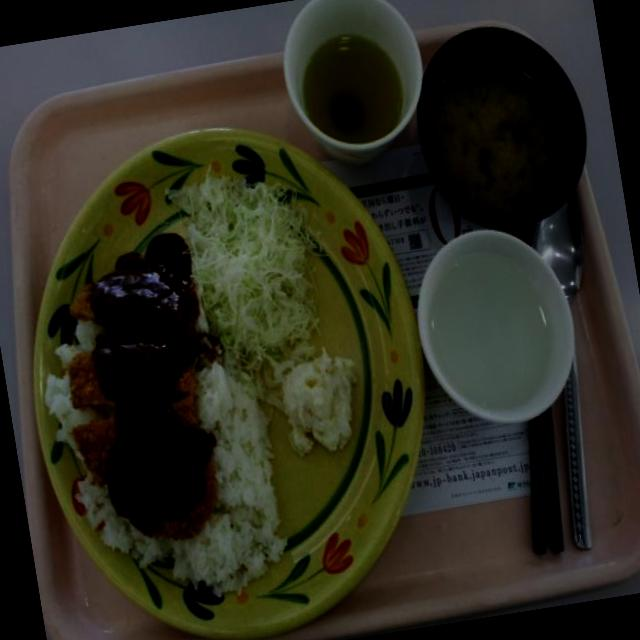Green Salad: (174, 144, 328, 371)
